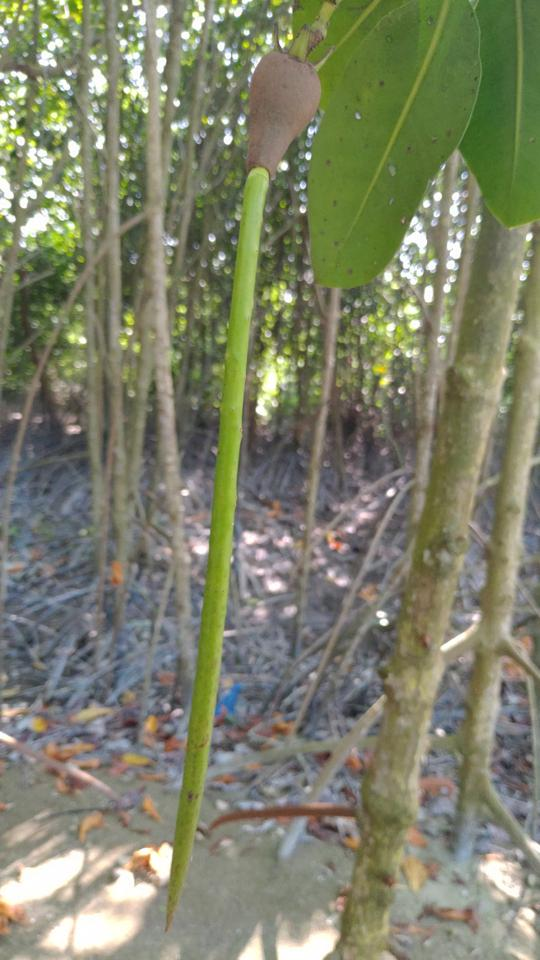setengah matang: (154, 18, 348, 941)
